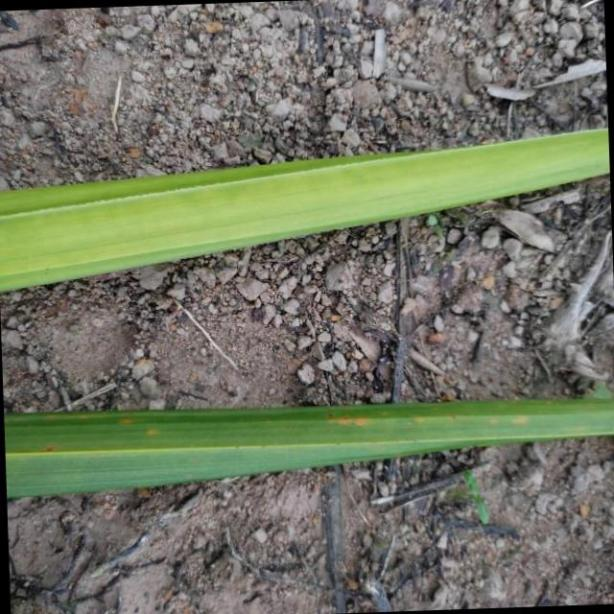nitrogen: (5, 123, 614, 296), (0, 395, 614, 494)
